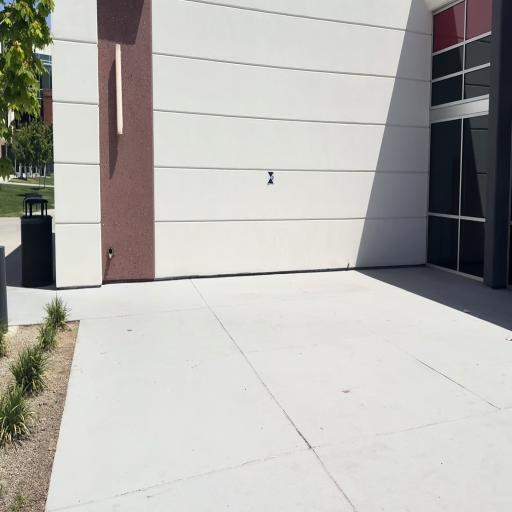target0: (268, 171, 274, 184)
